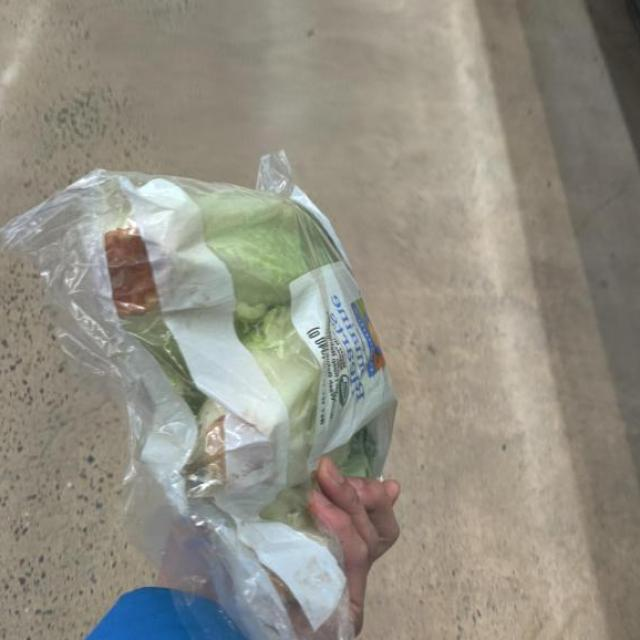Lettuce: (47, 145, 406, 640)
